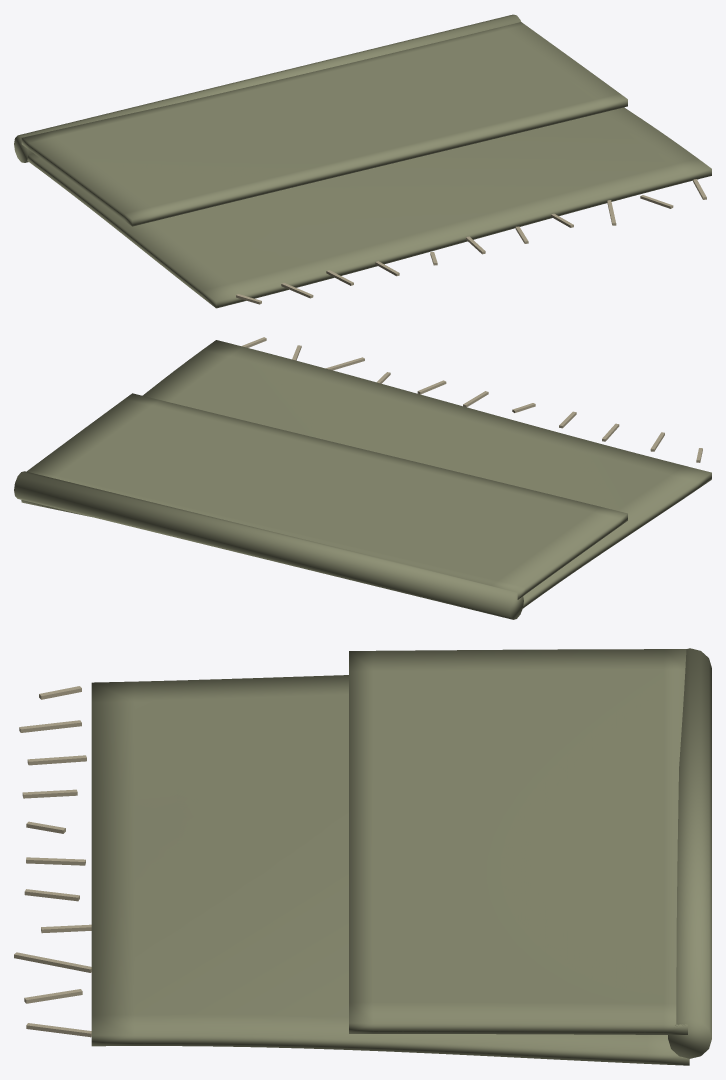
File: Item_cloth.fbx
3 views of the same model, one above another, from view 1: azimuth 30°, elevation 25°; view 2: azimuth 150°, elevation 25°; view 3: azimuth 270°, elevation 25° (orthographic). The views are drawn at different scales.
Parts seen in each view (by area): view 1: model.006; view 2: model.006; view 3: model.006.
Part boxes in pixels (bbox=[...]): model.006: bbox=[14, 14, 711, 308]; model.006: bbox=[14, 337, 711, 619]; model.006: bbox=[14, 648, 711, 1065].
Bounding box in the file's own units: 0.22 × 0.0129 × 0.175.
